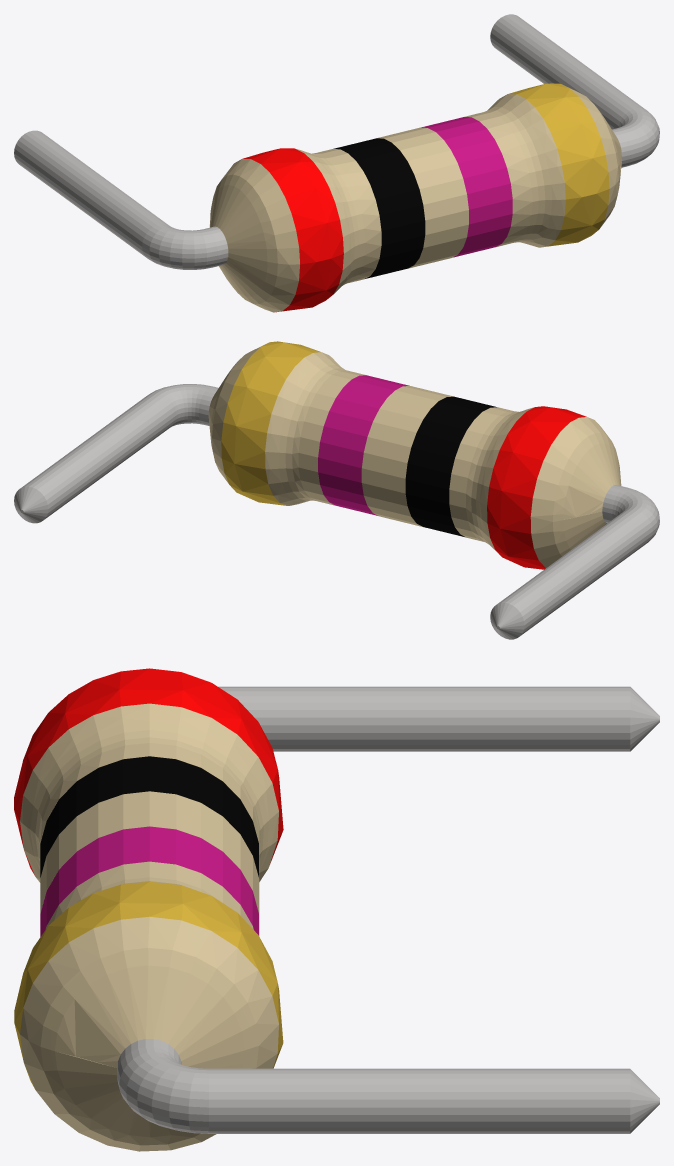
The model's file is Yageo CFR-25 Resistor Axial P7.62mm 200,0 MOhm.obj.
The picture shows the model from 3 angles, top to bottom: view 1: azimuth 30°, elevation 25°; view 2: azimuth 150°, elevation 25°; view 3: azimuth 270°, elevation 25°; orthographic projection. The views are drawn at different scales.
Visible parts, largest first — view 1: Yageo_CFR-25_Resistor_Axial_P7.62mm_200,0_MOhm; view 2: Yageo_CFR-25_Resistor_Axial_P7.62mm_200,0_MOhm; view 3: Yageo_CFR-25_Resistor_Axial_P7.62mm_200,0_MOhm.
Boxes of the visible parts, x1,y1,x2,y2 form: Yageo_CFR-25_Resistor_Axial_P7.62mm_200,0_MOhm: [14, 14, 659, 312]; Yageo_CFR-25_Resistor_Axial_P7.62mm_200,0_MOhm: [14, 341, 659, 639]; Yageo_CFR-25_Resistor_Axial_P7.62mm_200,0_MOhm: [14, 668, 659, 1151].
Bounding box in the file's own units: 0.0104 × 0.00287 × 0.00693.
